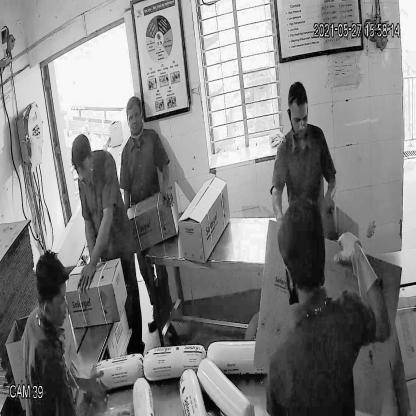no_goggles: (285, 110, 314, 130), (125, 108, 146, 125)
